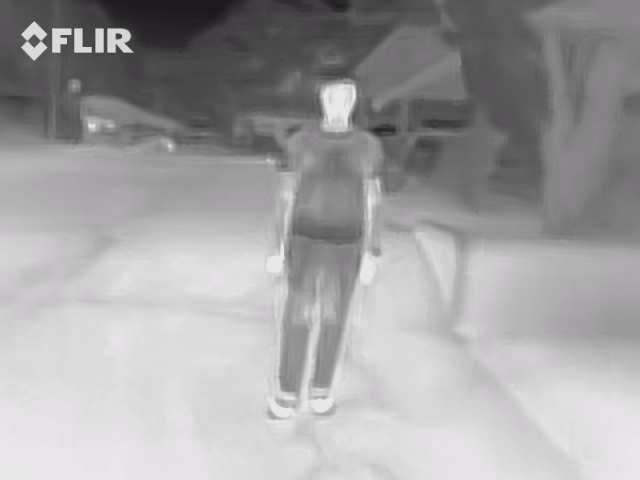head: (315, 76, 358, 125)
